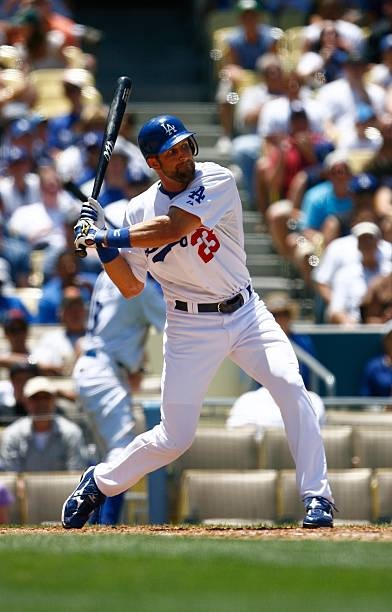bita: (75, 72, 132, 251)
